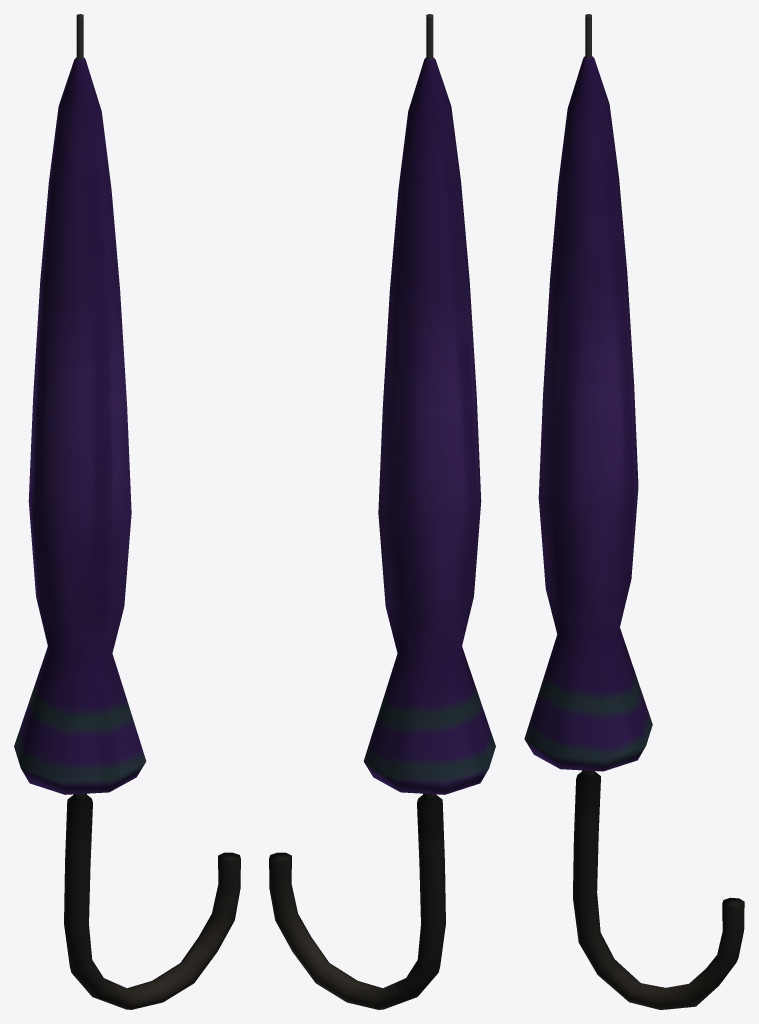
File: Umbrella_Closed.fbx
3 renders of one model, left to right at view 1: azimuth 30°, elevation 25°; view 2: azimuth 150°, elevation 25°; view 3: azimuth 330°, elevation 25°, orthographic. The views are drawn at different scales.
Visible parts, largest first — view 1: Umbrella_ClosedBit, Umbrella_Handle_2; view 2: Umbrella_ClosedBit, Umbrella_Handle_2; view 3: Umbrella_ClosedBit, Umbrella_Handle_2.
Boxes of the visible parts, left/top/right/bottom form: Umbrella_ClosedBit: left=14, top=57, right=146, bottom=794; Umbrella_Handle_2: left=64, top=793, right=240, bottom=1009; Umbrella_ClosedBit: left=363, top=57, right=495, bottom=794; Umbrella_Handle_2: left=269, top=793, right=445, bottom=1009; Umbrella_ClosedBit: left=524, top=56, right=652, bottom=771; Umbrella_Handle_2: left=573, top=770, right=744, bottom=1009.
Size of the model in its own units: 1.44 by 6.32 by 0.7803.
